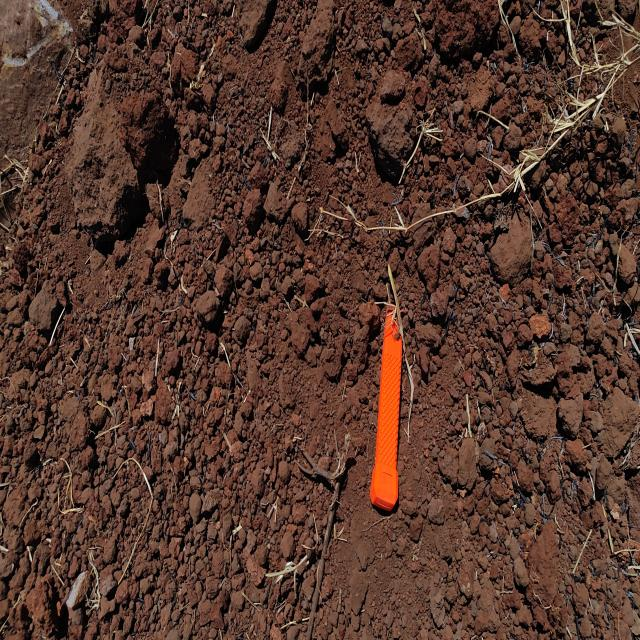Orange_hammer: (369, 280, 403, 512)
rock: (66, 89, 144, 239), (363, 56, 420, 192), (114, 88, 172, 174), (427, 3, 500, 69), (520, 511, 563, 608), (485, 212, 535, 292), (181, 156, 223, 236), (435, 436, 482, 496), (28, 271, 68, 338), (19, 576, 57, 640), (554, 343, 593, 402), (284, 300, 316, 358), (202, 577, 237, 626), (264, 62, 291, 113), (69, 407, 94, 461), (559, 433, 589, 474), (155, 376, 174, 432), (287, 196, 310, 235), (526, 311, 555, 341), (247, 462, 266, 499), (243, 183, 258, 228)
